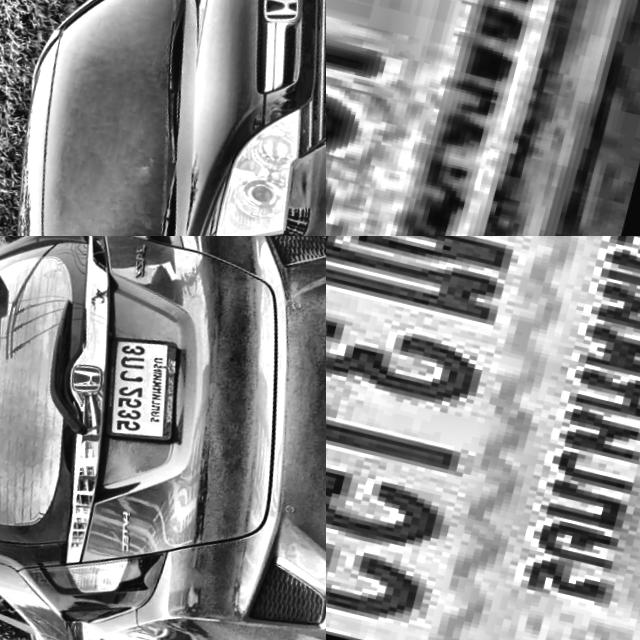license-plate: (326, 236, 640, 640), (326, 0, 640, 236), (83, 323, 205, 450)
